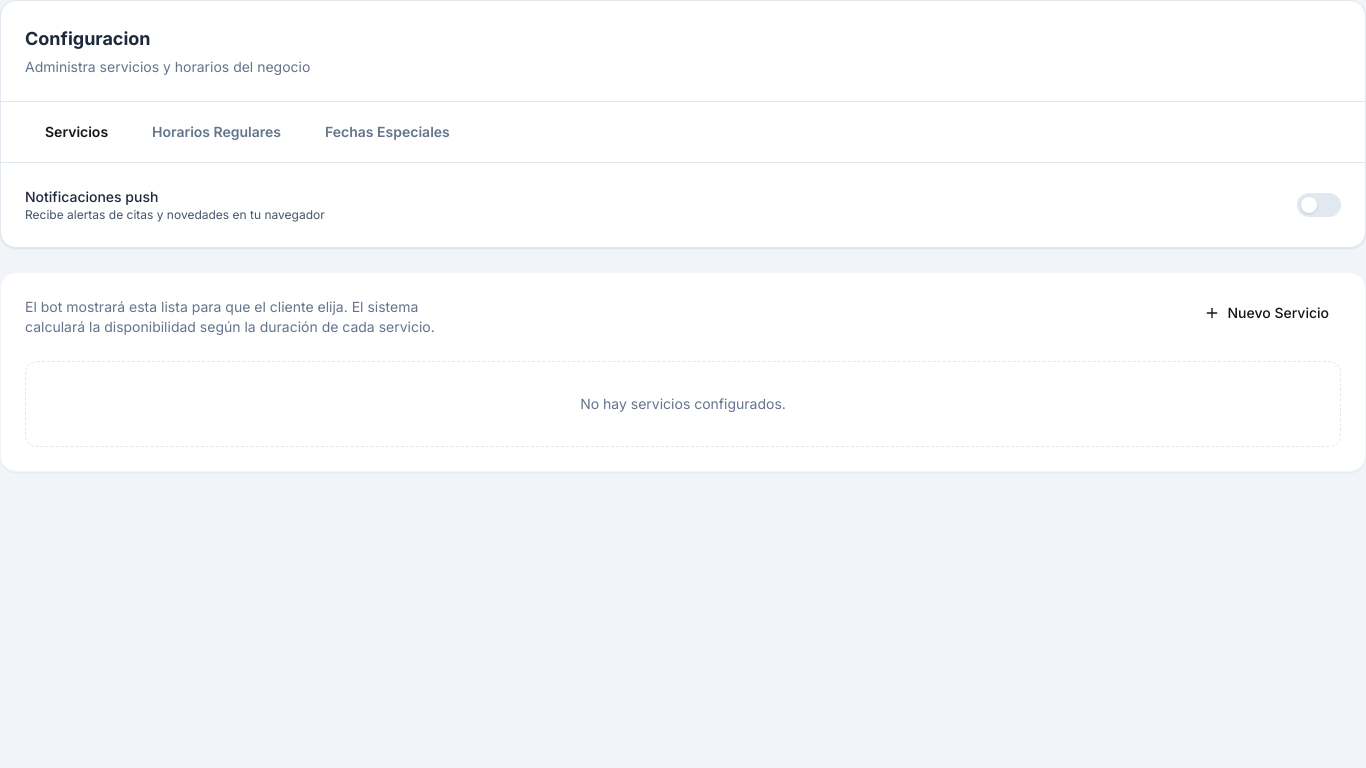
Test case: ConfiguracionView › switches to HorariosEspecialesTab when clicking Fechas Especiales
What coordinates should you click on to do the following:
click the button "Fechas Especiales"
I would click on:
 (387, 132)
Its box is [305,114,470,150].
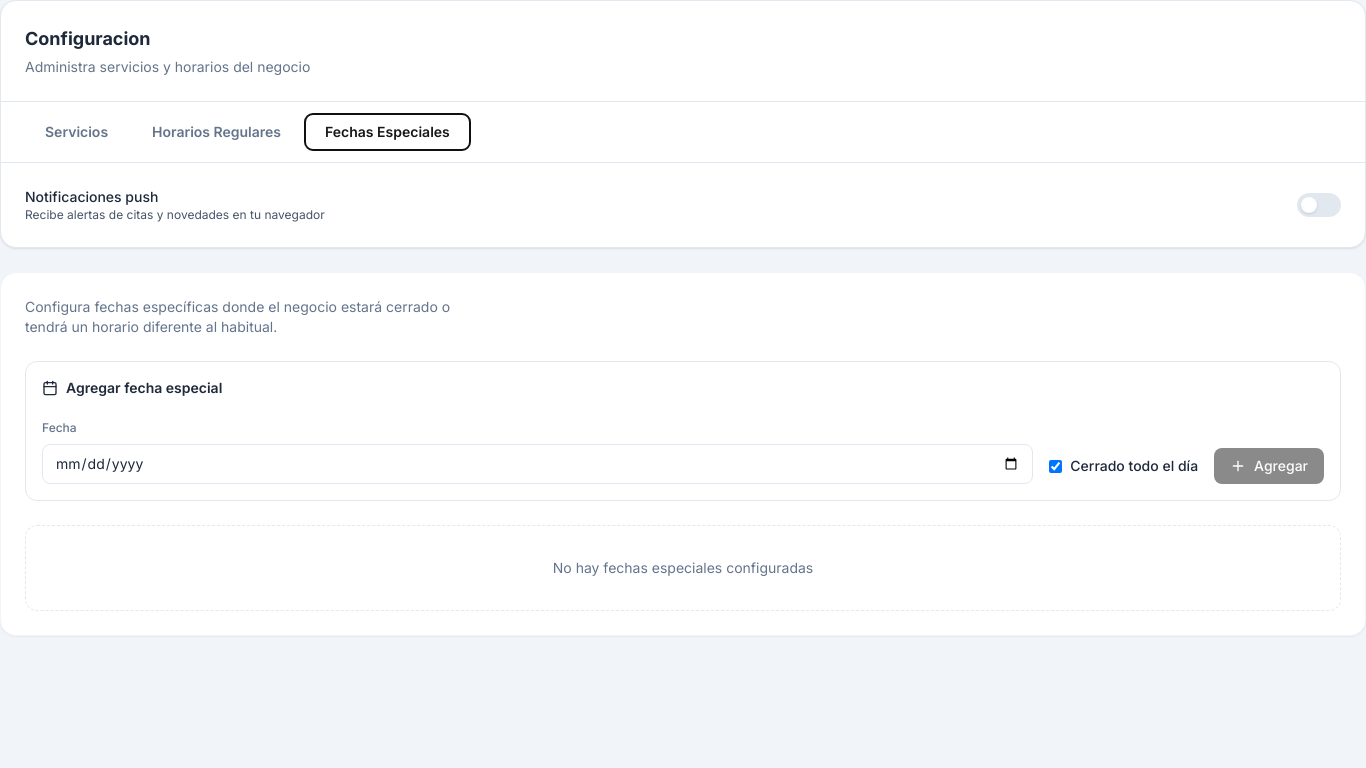
Check: the text "No hay fechas especiales configuradas" is shown, box [25,525,1341,611]
